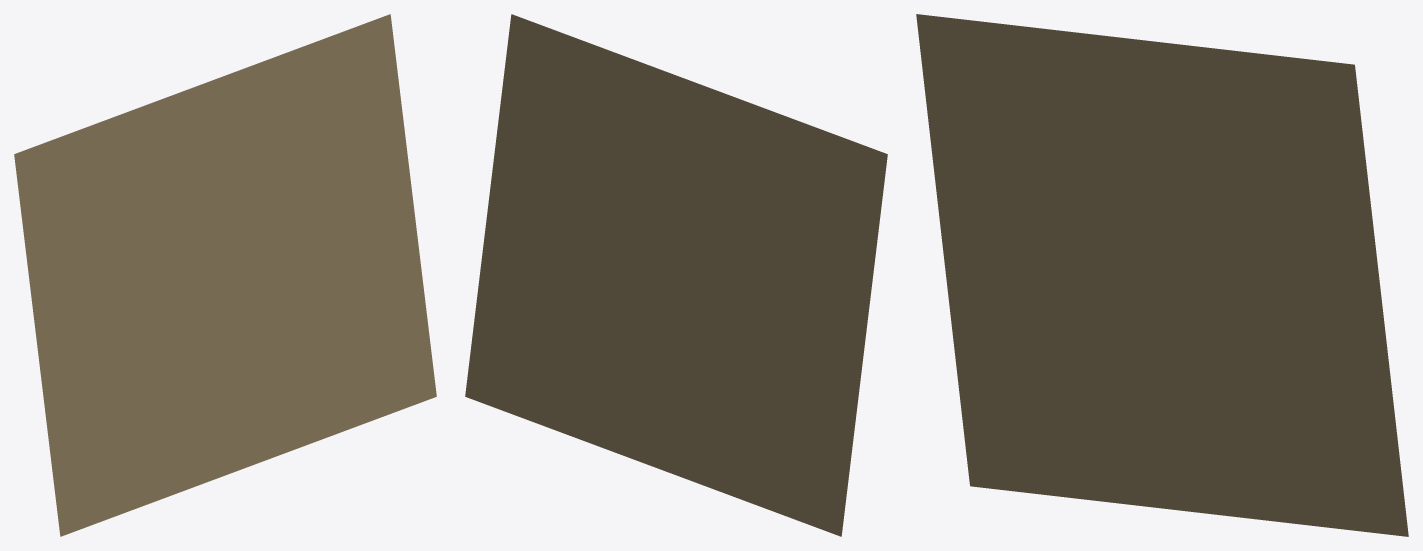
Rendered from v4_wall_c7.obj.
3 renders of one model, left to right at view 1: azimuth 30°, elevation 25°; view 2: azimuth 150°, elevation 25°; view 3: azimuth 330°, elevation 25°, orthographic. The views are drawn at different scales.
Size of the model in its own units: 1.11 by 1.11 by 0.
